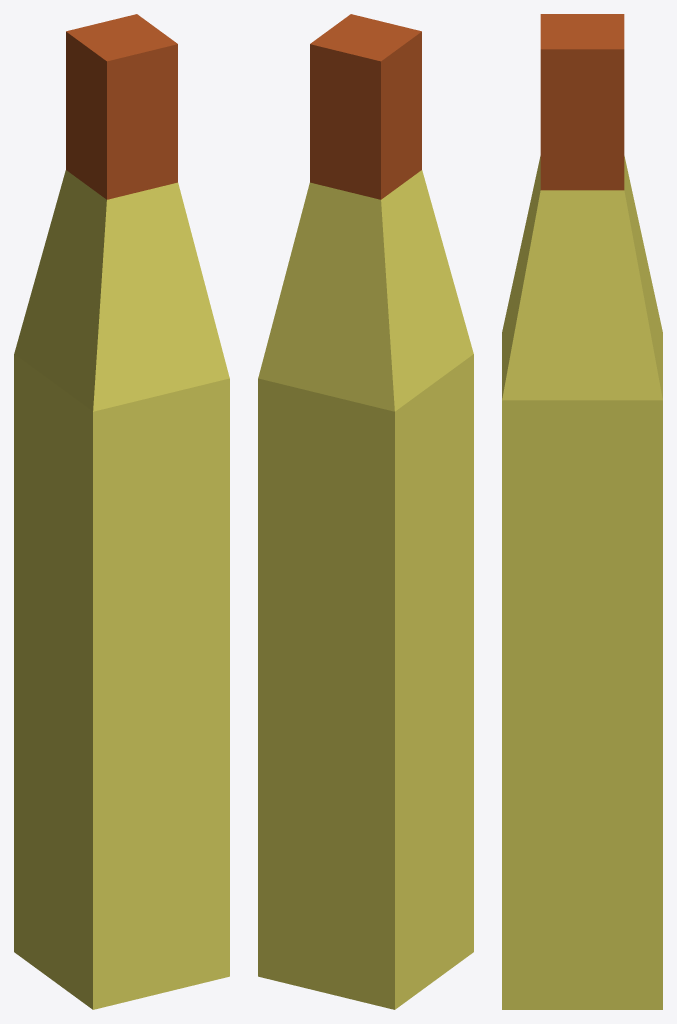
The model's file is Ammo_Rifle.FBX.
The picture shows the model from 3 angles, left to right: view 1: azimuth 30°, elevation 25°; view 2: azimuth 150°, elevation 25°; view 3: azimuth 270°, elevation 25°; orthographic projection.
Visible parts, largest first — view 1: Ammo_Rifle, Bullet_rifle; view 2: Ammo_Rifle, Bullet_rifle; view 3: Ammo_Rifle, Bullet_rifle.
Boxes of the visible parts, bbox=[...] form: Ammo_Rifle: bbox=[14, 170, 229, 1009]; Bullet_rifle: bbox=[66, 14, 177, 199]; Ammo_Rifle: bbox=[258, 170, 473, 1009]; Bullet_rifle: bbox=[310, 14, 421, 199]; Ammo_Rifle: bbox=[502, 156, 662, 1009]; Bullet_rifle: bbox=[540, 14, 624, 190].
Size of the model in its own units: 2.58 by 2.58 by 16.73.
